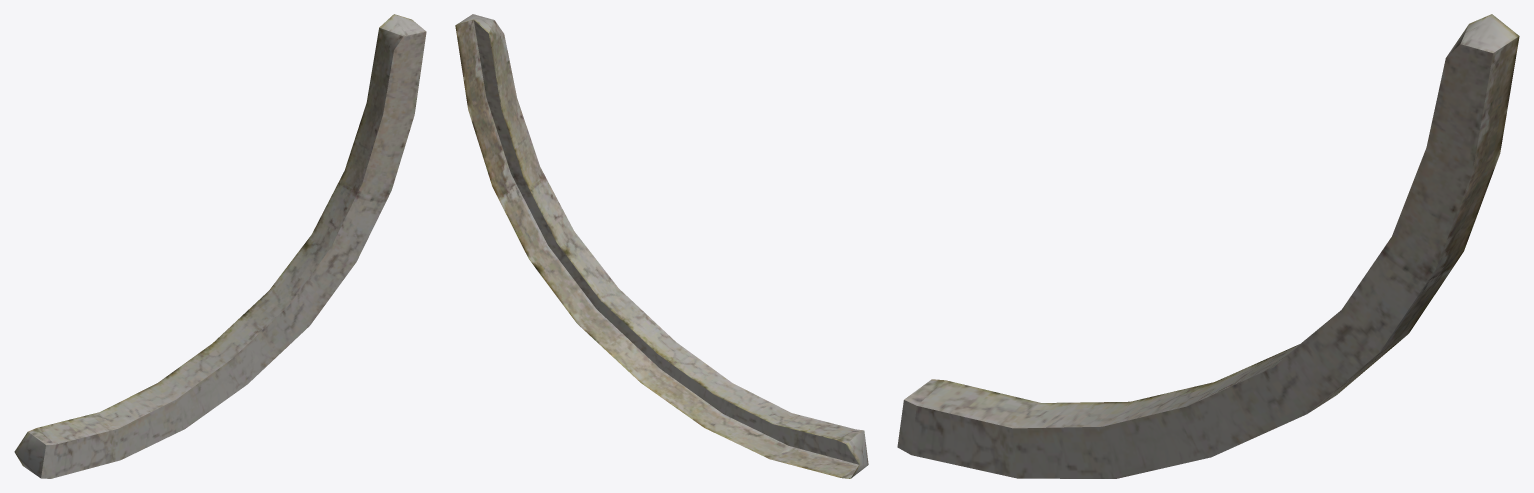
File: border_c_90_white_long2.glb
The picture shows the model from 3 angles, left to right: view 1: azimuth 30°, elevation 25°; view 2: azimuth 150°, elevation 25°; view 3: azimuth 330°, elevation 25°; orthographic projection. The views are drawn at different scales.
Parts seen in each view (by area): view 1: set_0_group_0; view 2: set_0_group_0; view 3: set_0_group_0.
Boxes of the visible parts, bbox=[...] form: set_0_group_0: bbox=[14, 14, 426, 478]; set_0_group_0: bbox=[455, 14, 868, 478]; set_0_group_0: bbox=[897, 14, 1519, 478].
Bounding box in the file's own units: 3.86 × 3.37 × 0.3164.
1 material, 1 textured.
